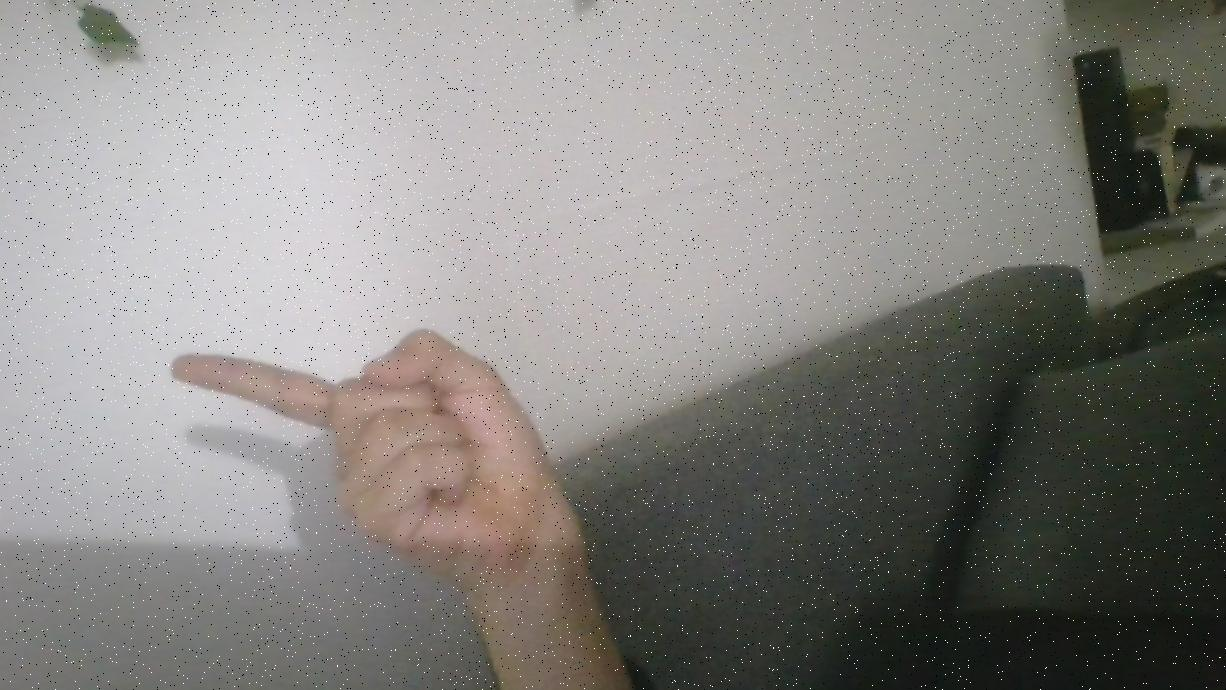left: (154, 293, 574, 588)
